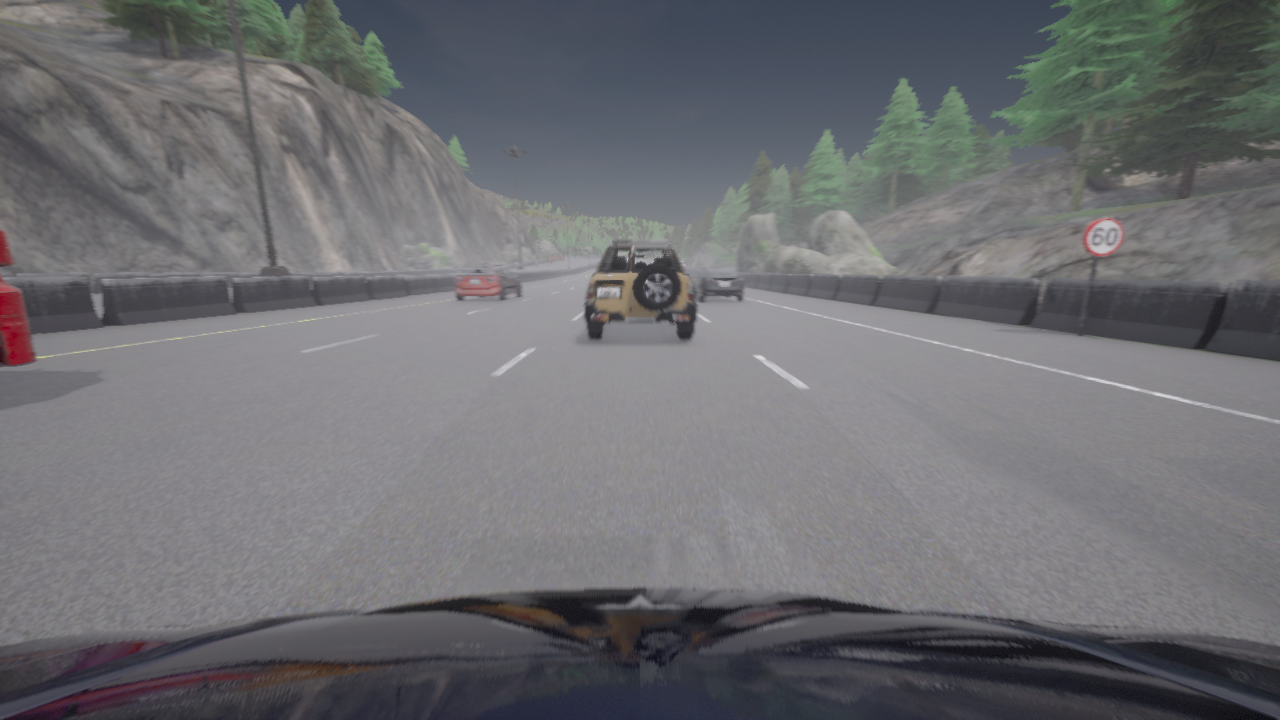cyclist: (0, 588, 1279, 719), (584, 240, 696, 339), (455, 263, 522, 300), (691, 267, 744, 301)
